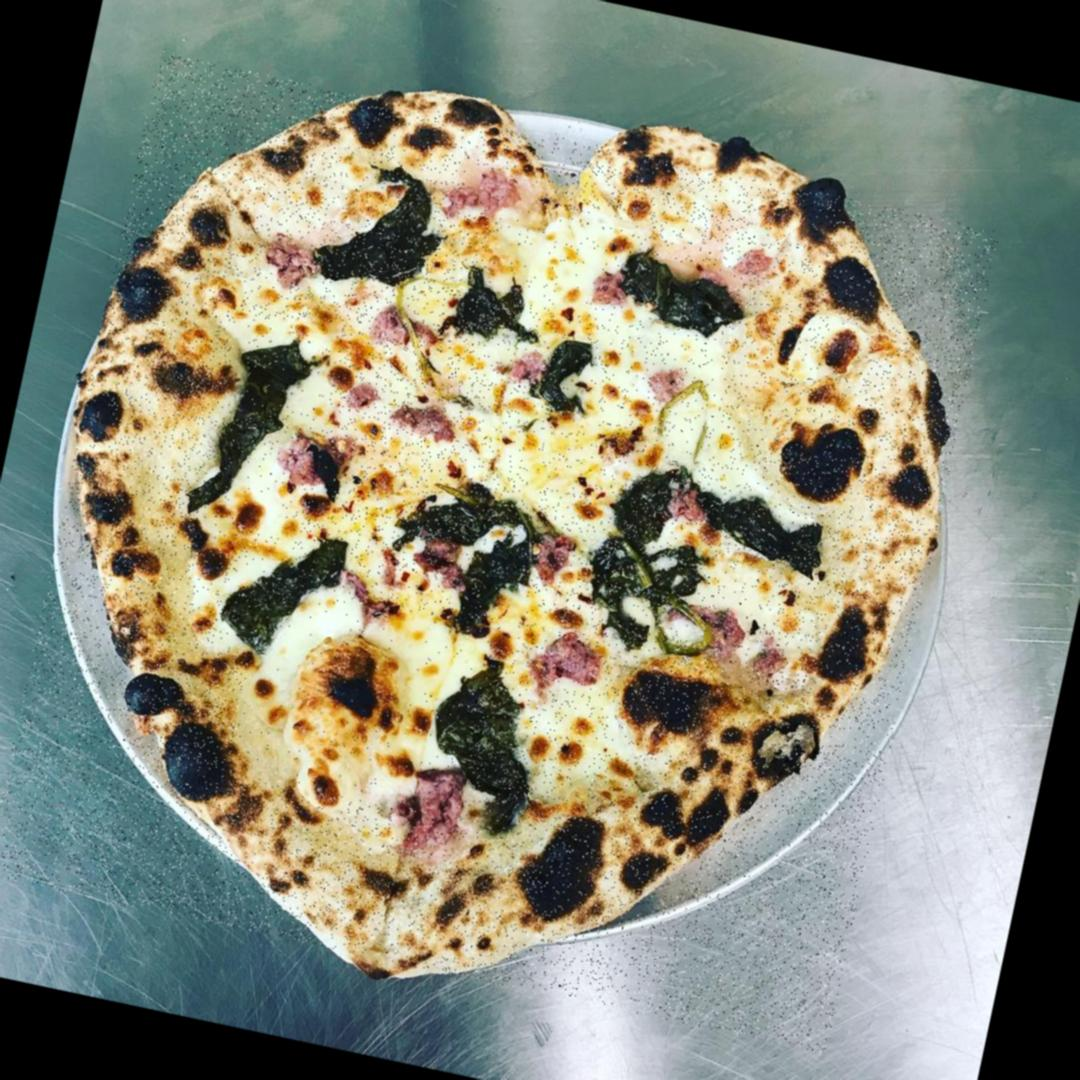Basil: (424, 653, 554, 830), (217, 522, 353, 678), (573, 461, 682, 652), (316, 164, 443, 302), (684, 486, 833, 587), (214, 344, 308, 503), (420, 473, 546, 560), (436, 543, 536, 650), (616, 252, 736, 340), (452, 269, 536, 338), (540, 338, 596, 415)
Cheese: (228, 583, 493, 820), (655, 463, 842, 671), (194, 314, 343, 559), (594, 312, 793, 478), (314, 340, 520, 480), (478, 197, 651, 328), (506, 666, 636, 805), (497, 394, 611, 496)
Ham: (397, 769, 468, 856), (529, 630, 608, 698), (289, 426, 360, 496), (458, 164, 532, 222), (528, 526, 582, 588), (694, 611, 750, 666), (268, 236, 318, 288), (582, 260, 626, 315), (374, 312, 436, 346), (646, 370, 692, 410), (506, 348, 543, 379)
Pizza: (0, 53, 1001, 1054)
